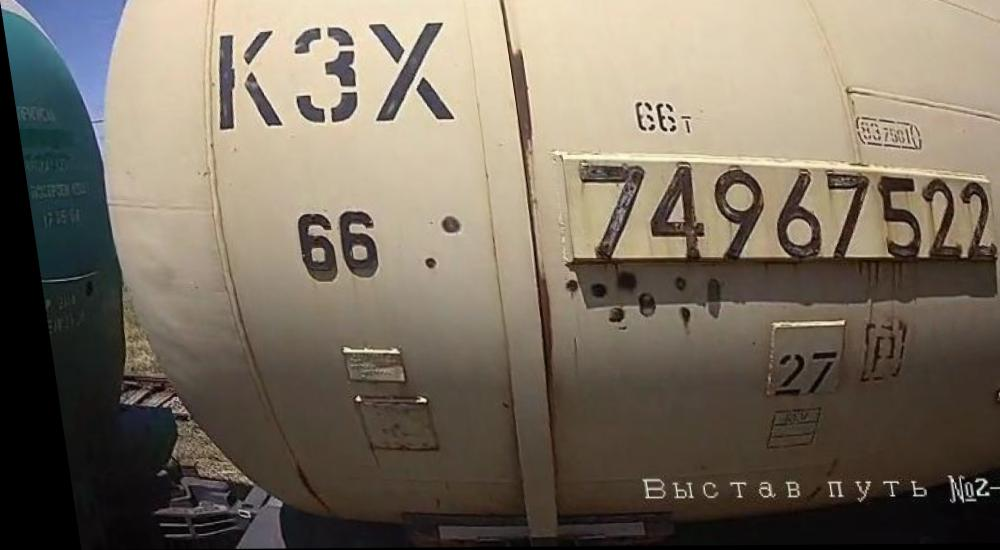Wagon-number: (566, 155, 993, 264)
